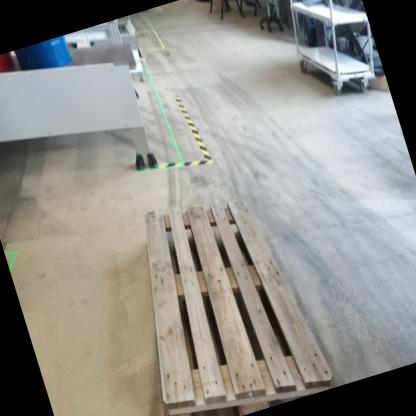BoxFace: (139, 187, 338, 416)
